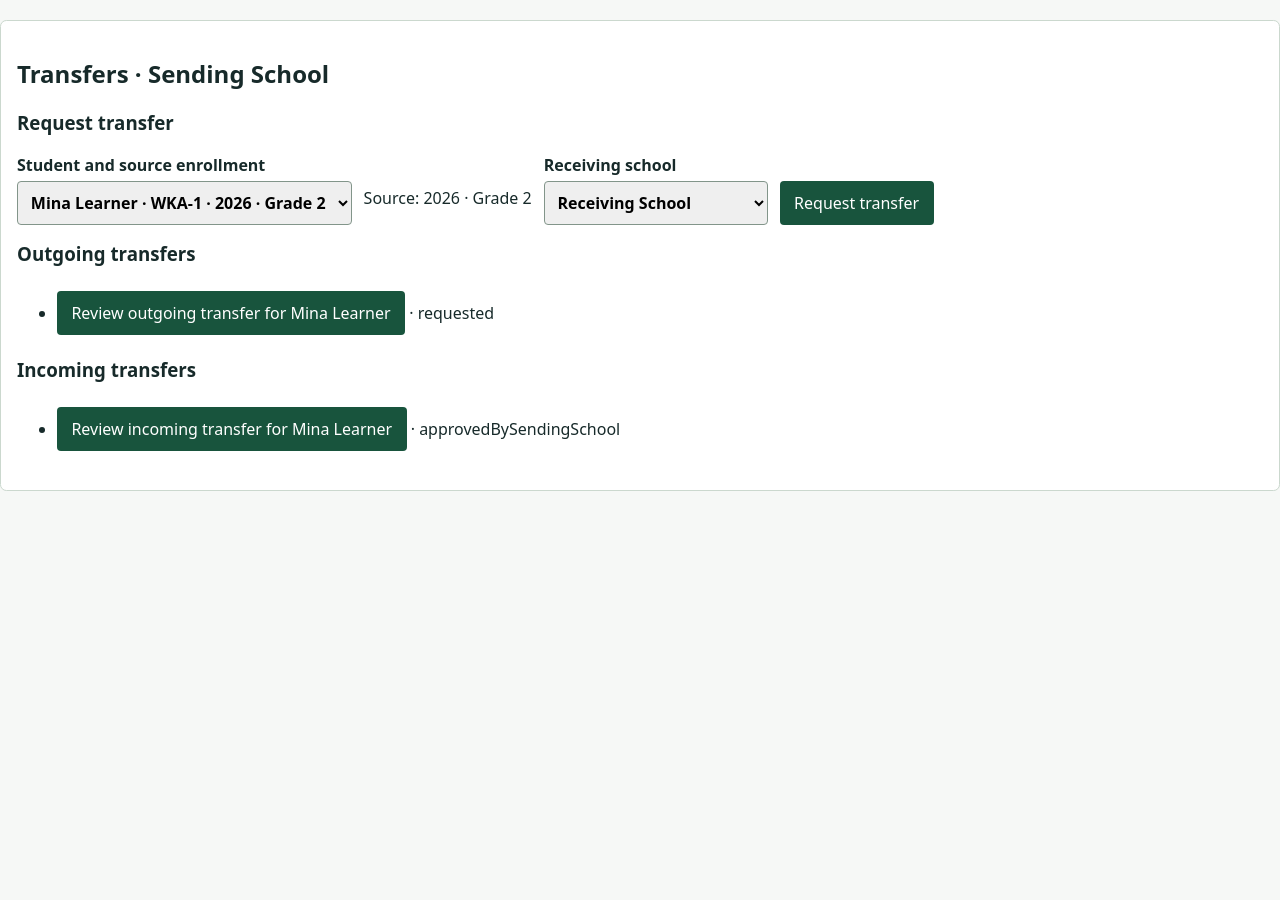
Test: transfer workspace › accepts an approved incoming transfer into a pending enrollment
Click the button "Review incoming transfer for Mina Learner" at (232, 429), box top-left (57, 407), bottom-right (406, 451)
(page scrolled)
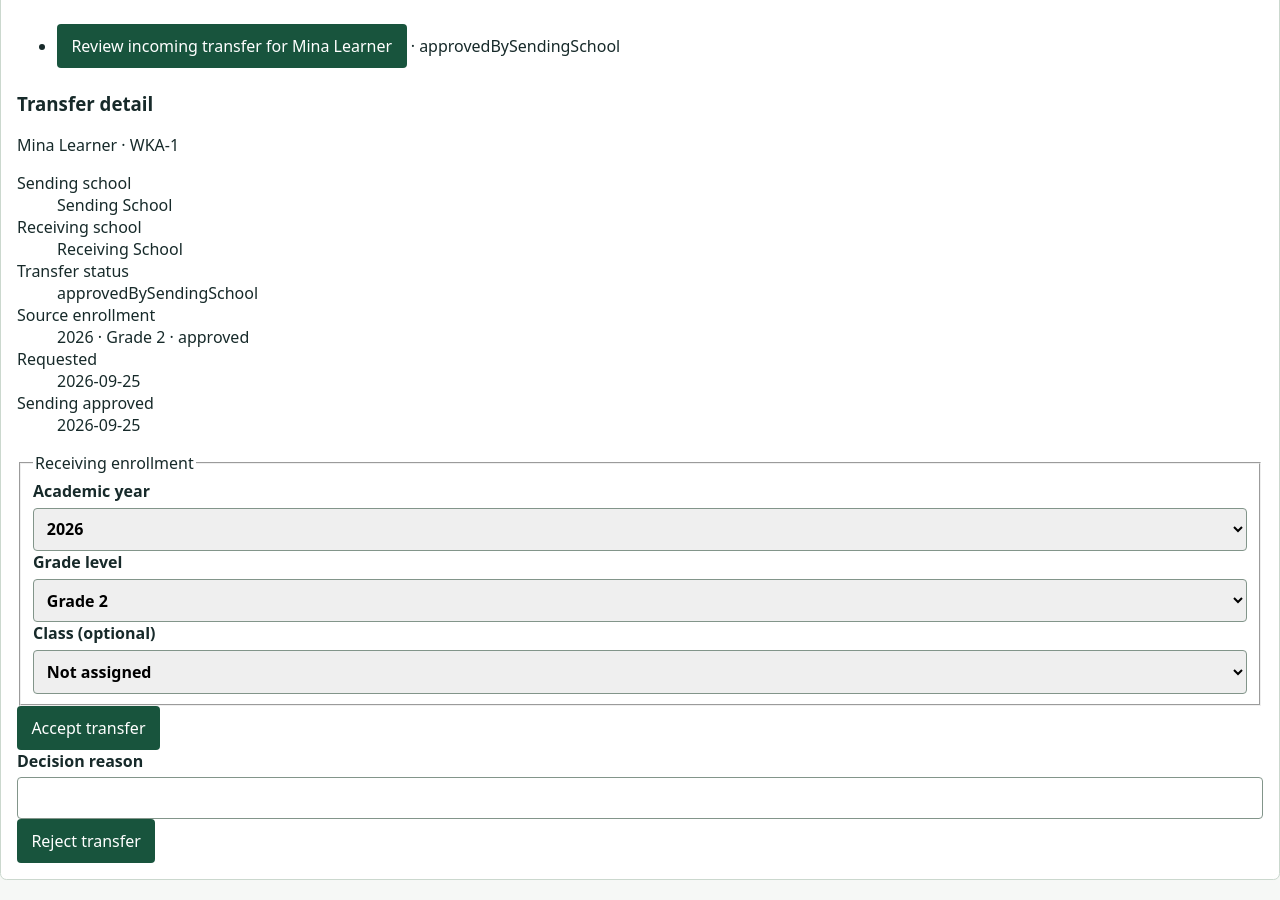
Expected: the button "Accept transfer" is shown
Click the button "Accept transfer" at (88, 728), box top-left (17, 706), bottom-right (160, 750)
(page scrolled)
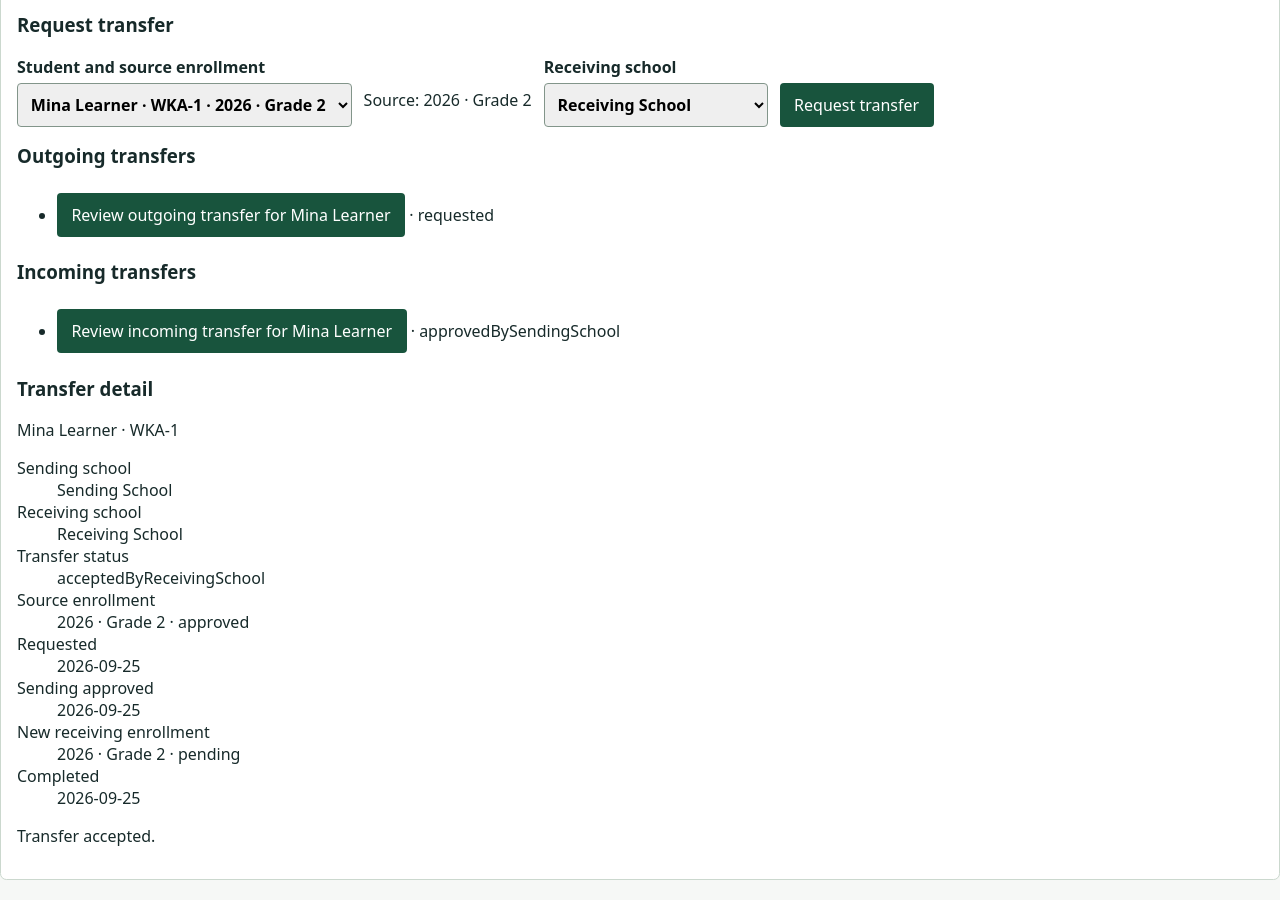
Expected: the text "2026 · Grade 2 · pending" is shown, top-left (57, 743), bottom-right (240, 765)
